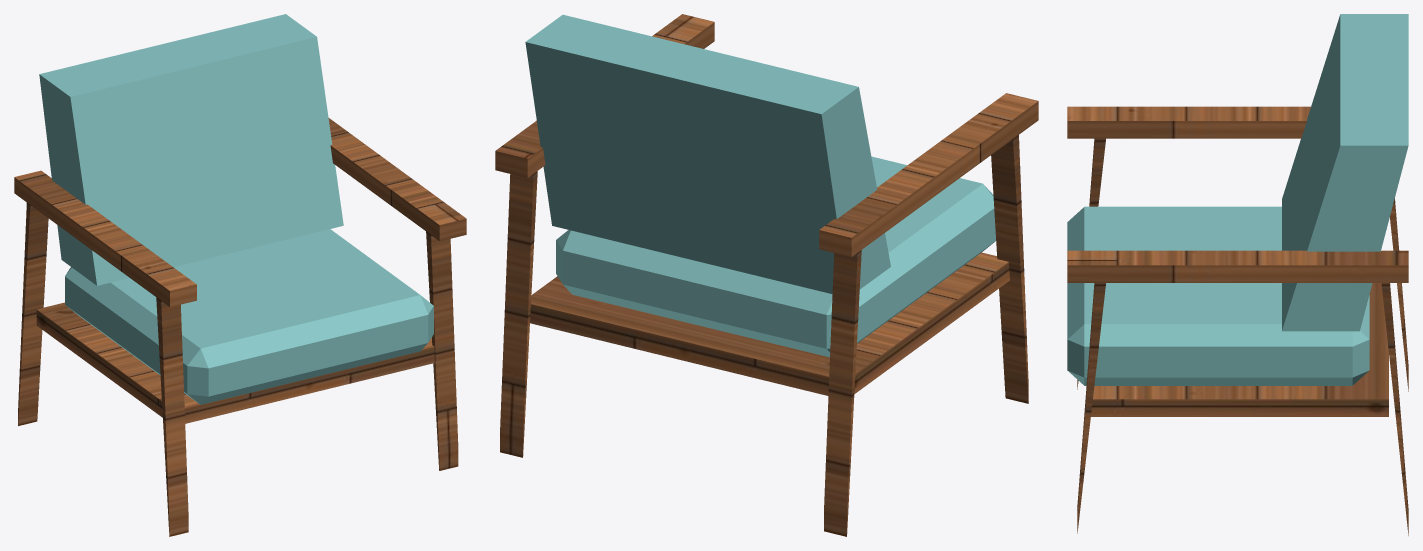
File: armchair_t.glb
The picture shows the model from 3 angles, left to right: view 1: azimuth 30°, elevation 25°; view 2: azimuth 150°, elevation 25°; view 3: azimuth 270°, elevation 25°; orthographic projection. The views are drawn at different scales.
Visible parts, largest first — view 1: armchair_t_fabric_t, armchair_t_teak; view 2: armchair_t_fabric_t, armchair_t_teak; view 3: armchair_t_fabric_t, armchair_t_teak.
Part boxes in pixels (x1,y1,x2,y2): armchair_t_fabric_t: (39, 14, 433, 404); armchair_t_teak: (14, 118, 466, 536); armchair_t_fabric_t: (525, 14, 996, 357); armchair_t_teak: (495, 14, 1038, 536); armchair_t_fabric_t: (1067, 14, 1408, 385); armchair_t_teak: (1067, 106, 1408, 535).
Bounding box in the file's own units: 0.77 × 0.86 × 0.7.
Materials: 2 (1 with a texture image).
